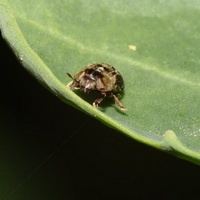insect: (66, 63, 127, 110)
